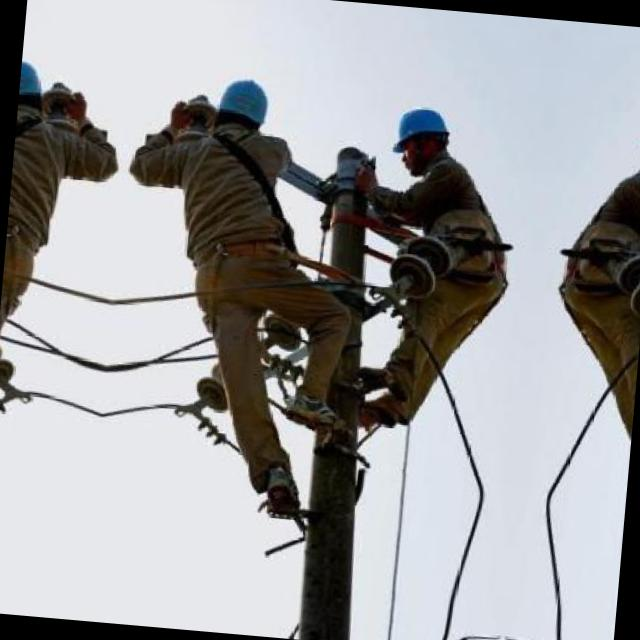helmet: (203, 66, 273, 156), (381, 95, 455, 176), (15, 48, 53, 136), (633, 116, 640, 194)
